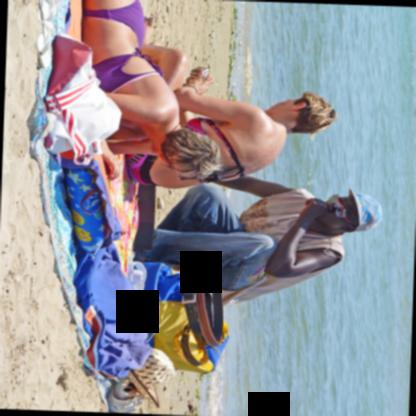handbag: (43, 34, 122, 166), (63, 155, 129, 255)
